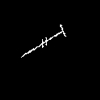treble_crochet: (22, 25, 64, 56)
